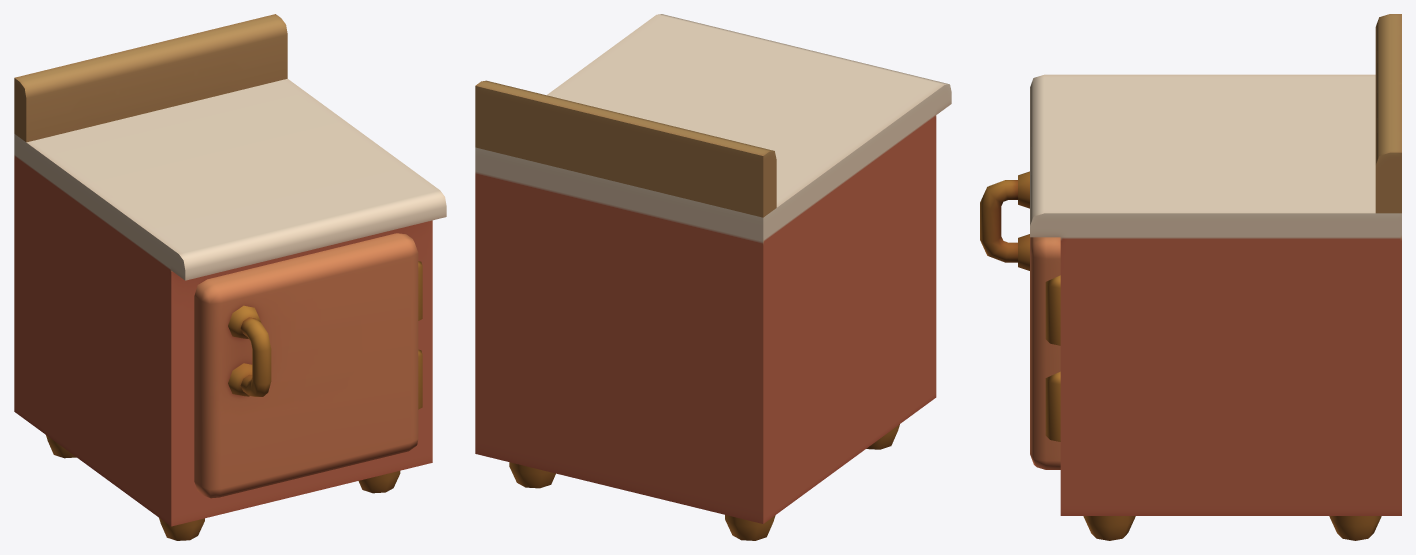
Rendered from medium_cabinet_01.fbx.
The picture shows the model from 3 angles, left to right: view 1: azimuth 30°, elevation 25°; view 2: azimuth 150°, elevation 25°; view 3: azimuth 270°, elevation 25°; orthographic projection. The views are drawn at different scales.
Parts seen in each view (by area): view 1: medium_cabinet_01_ready; view 2: medium_cabinet_01_ready; view 3: medium_cabinet_01_ready.
Boxes of the visible parts, x1,y1,x2,y2 form: medium_cabinet_01_ready: (14,14,446,540); medium_cabinet_01_ready: (475,14,951,540); medium_cabinet_01_ready: (980,14,1401,540).
Size of the model in its own units: 75 by 100 by 96.4.
